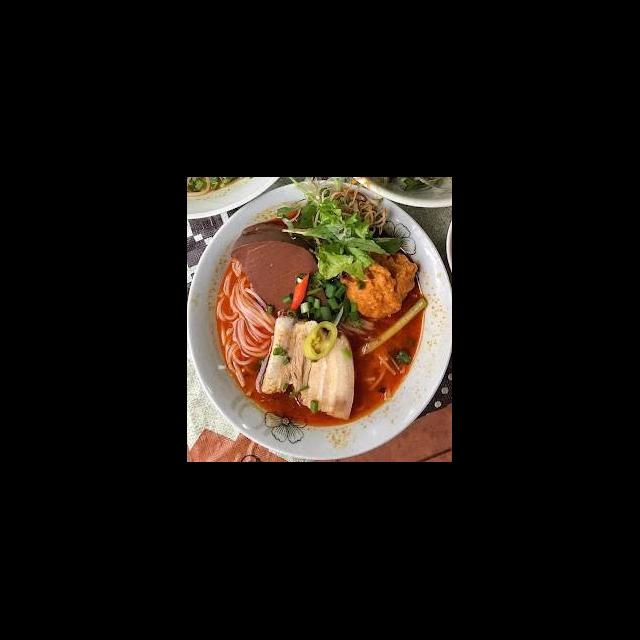bun: (208, 256, 280, 390)
thit heo: (258, 310, 326, 416)
